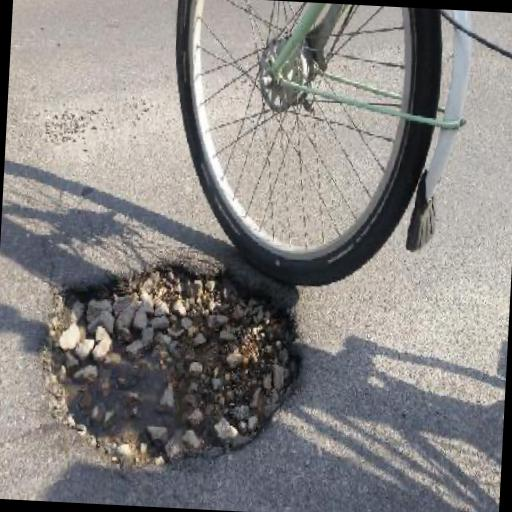pothole: (37, 250, 312, 476)
